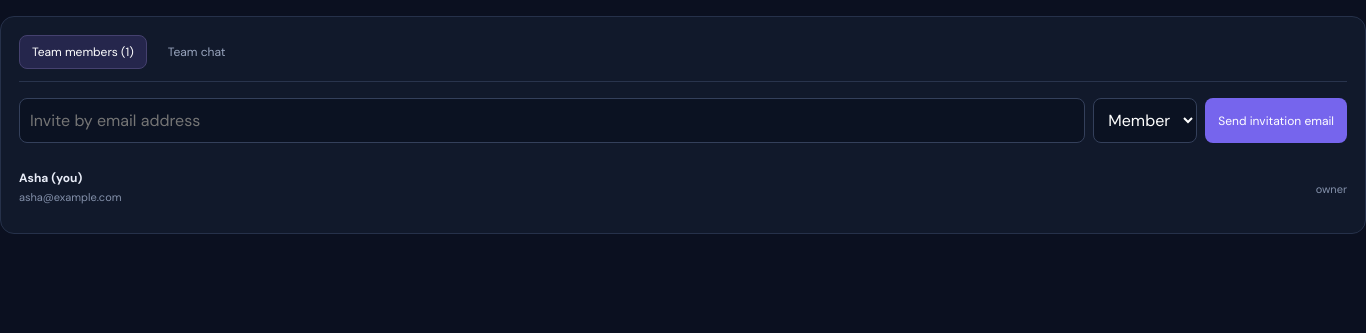
Scenario: CollaborationPanel › shows members and exposes invitation controls to the owner
Expected: the text "asha@example.com" is shown, [19,190,122,204]
Expected: the button "Send invitation email" is shown, [1205,98,1347,143]
Click the button "Team chat" at (197,52), box [155,35,238,69]
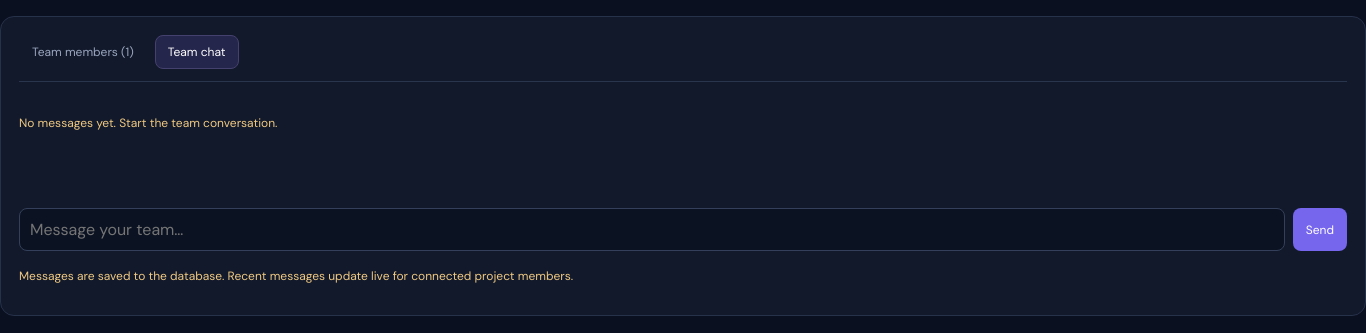
Result: the text "No messages yet. Start the team conversation." is shown at [19,115,278,131]
Result: the field named "Team message" is shown at [19,208,1285,251]
